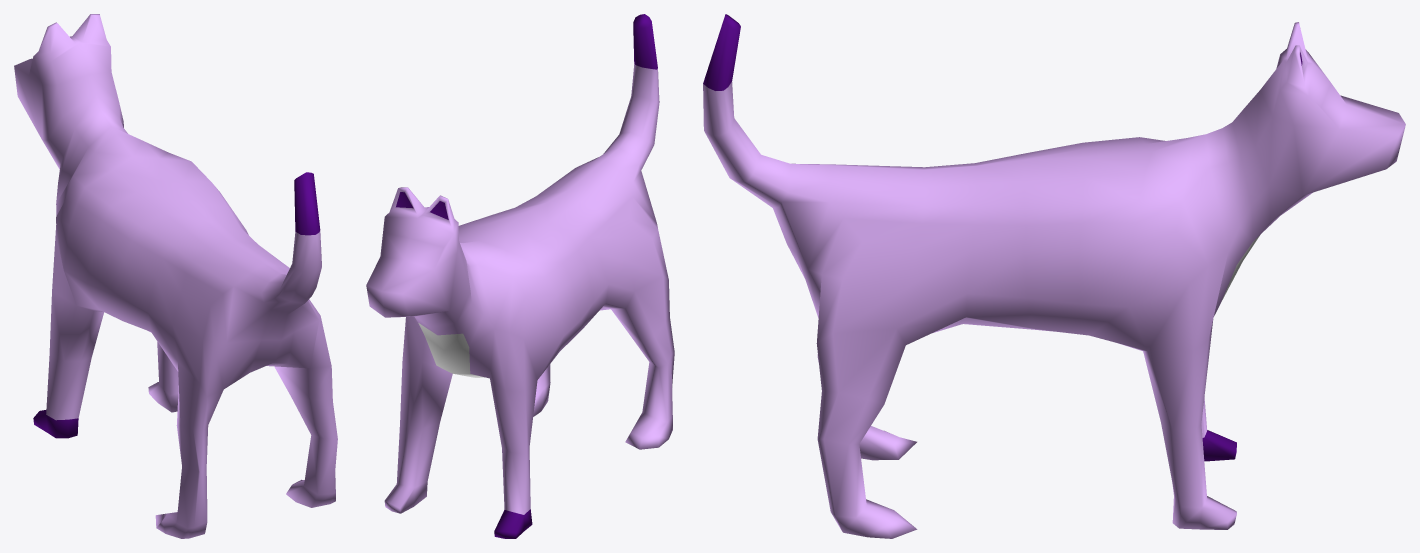
The model's file is DogSmooth.fbx.
3 renders of one model, left to right at view 1: azimuth 30°, elevation 25°; view 2: azimuth 150°, elevation 25°; view 3: azimuth 270°, elevation 25°, orthographic. The views are drawn at different scales.
Visible parts, largest first — view 1: Dog; view 2: Dog; view 3: Dog.
Part boxes in pixels (x1,y1,x2,y2): Dog: (14, 14, 337, 538); Dog: (366, 14, 674, 538); Dog: (703, 14, 1405, 538).
Size of the model in its own units: 0.4082 by 0.9069 by 1.22.
